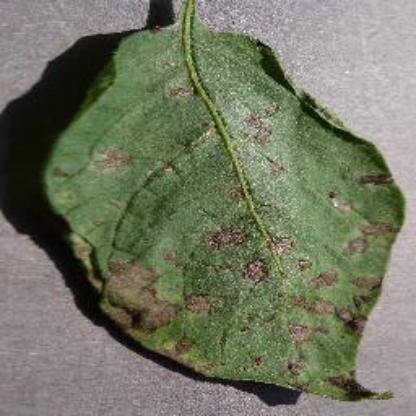Early-Blight: (37, 10, 401, 404)
